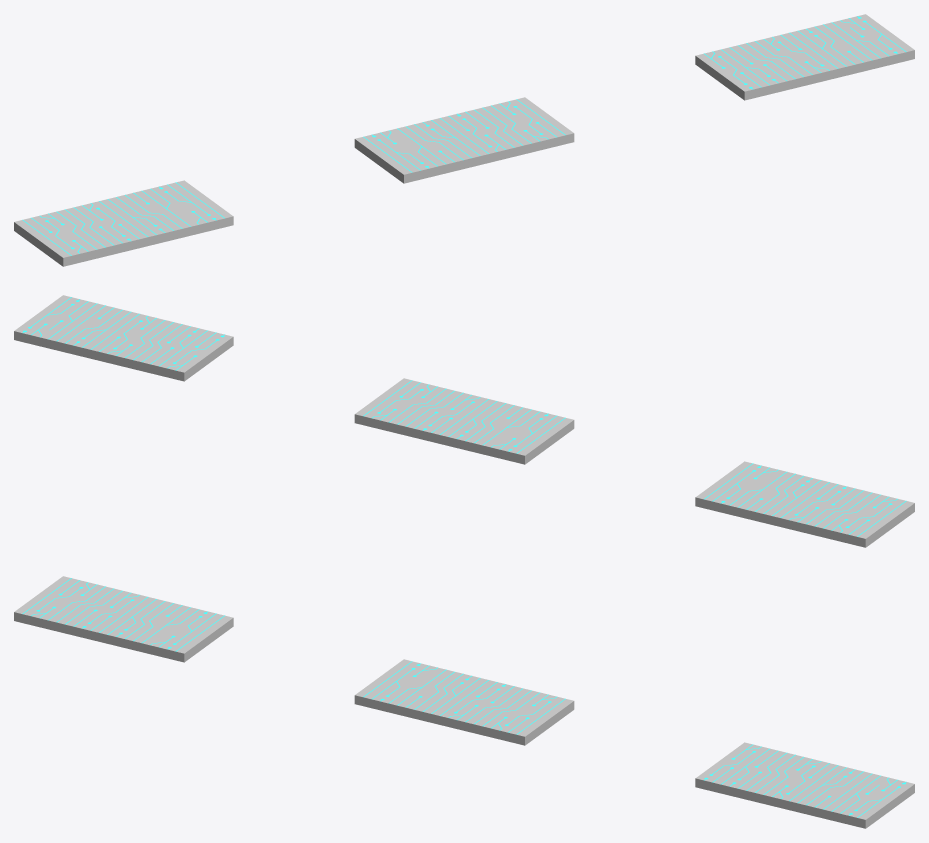
File: floor_metallic6.glb
3 renders of one model, top to bottom at view 1: azimuth 30°, elevation 25°; view 2: azimuth 150°, elevation 25°; view 3: azimuth 330°, elevation 25°, orthographic.
Parts seen in each view (by area): view 1: Cube.005, StraightLine.018; view 2: Cube.005, StraightLine.018; view 3: Cube.005, StraightLine.018.
Part boxes in pixels (x1,y1,x2,y2): Cube.005: (14,14,914,266); StraightLine.018: (22,16,906,255); Cube.005: (14,295,914,547); StraightLine.018: (22,297,906,536); Cube.005: (14,576,914,828); StraightLine.018: (22,578,906,817).
Size of the model in its own units: 200 by 2.05 by 20.
